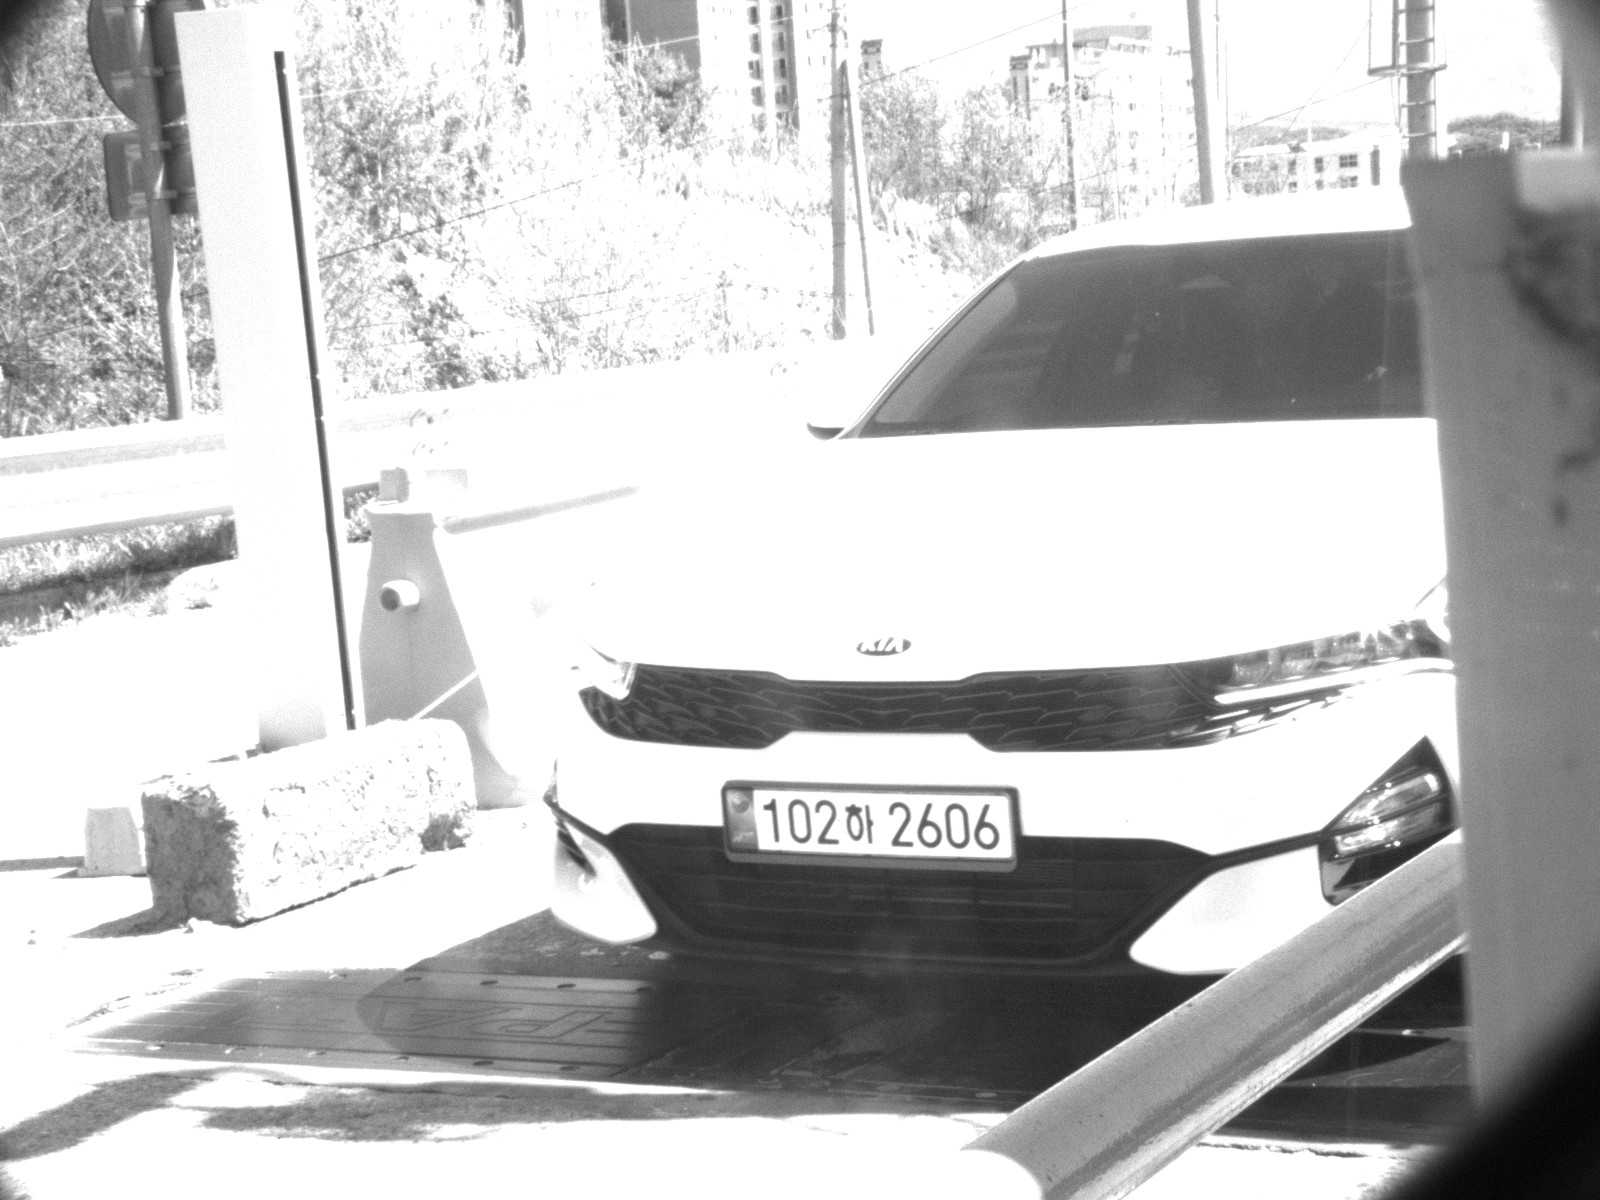car: (545, 185, 1414, 983)
plate: (719, 782, 1024, 867)
